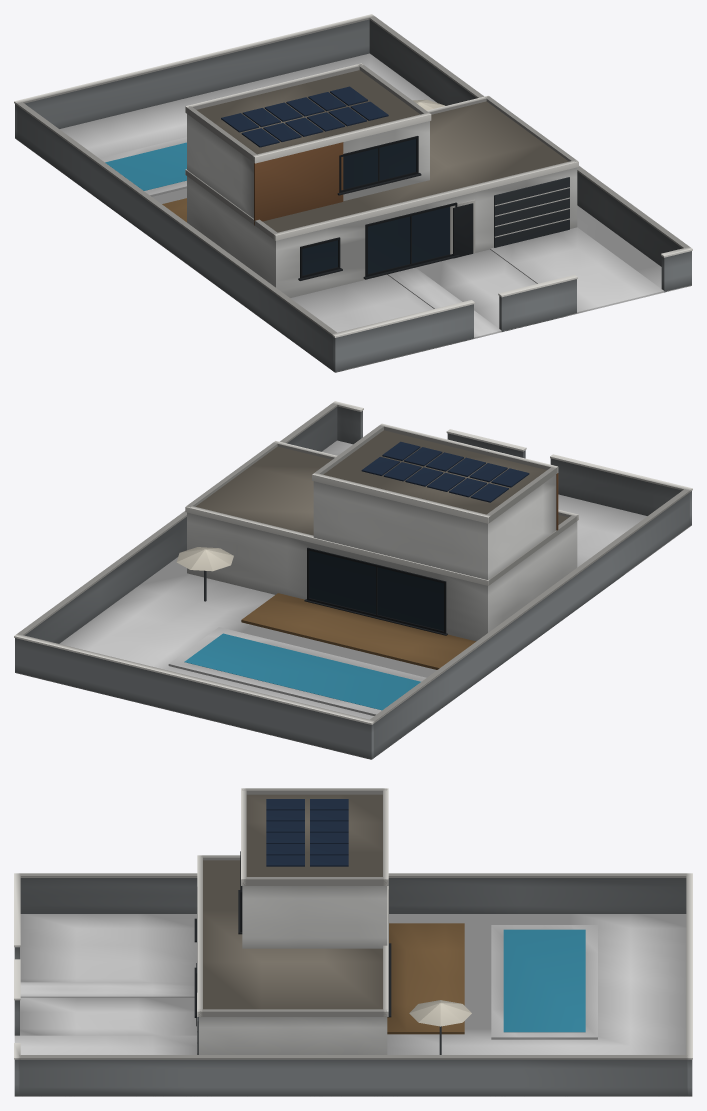
The model's file is moderna-DUXZ9qDY.glb.
The picture shows the model from 3 angles, top to bottom: view 1: azimuth 30°, elevation 25°; view 2: azimuth 150°, elevation 25°; view 3: azimuth 270°, elevation 25°; orthographic projection. The views are drawn at different scales.
Parts seen in each view (by area): view 1: pasto, pieza.006, pieza.014, pieza.008, pieza.015, pieza.012, pieza.010, pieza.020, pieza.026, pieza.021, pieza, porton (+20 smaller); view 2: pasto, pieza.014, pieza.020, pieza.006, pieza.008, piscina.001, pieza.039, pieza.015, ventana.020, pieza.010, pieza.021, pieza (+14 smaller); view 3: pasto, pieza.010, pieza.008, pieza.015, pieza.020, piscina.001, pieza.039, pieza.014, pieza.021, piscina, pieza.012, pieza.011 (+12 smaller).
Boxes of the visible parts, bbox=[...] form: pasto: bbox=[15, 53, 691, 372]; pieza.006: bbox=[15, 19, 369, 138]; pieza.014: bbox=[187, 167, 577, 297]; pieza.008: bbox=[17, 106, 332, 370]; pieza.015: bbox=[262, 101, 568, 232]; pieza.012: bbox=[490, 227, 664, 312]; pieza.010: bbox=[369, 20, 682, 266]; pieza.020: bbox=[187, 114, 429, 218]; pieza.026: bbox=[254, 142, 343, 225]; pieza.021: bbox=[197, 70, 419, 154]; pieza: bbox=[332, 304, 473, 372]; porton: bbox=[494, 177, 569, 247]; pasto: bbox=[15, 440, 691, 759]; pieza.014: bbox=[187, 512, 577, 641]; pieza.020: bbox=[313, 474, 556, 579]; pieza.006: bbox=[15, 638, 374, 759]; pieza.008: bbox=[374, 493, 689, 757]; piscina.001: bbox=[184, 633, 420, 710]; pieza.039: bbox=[241, 593, 475, 669]; pieza.015: bbox=[195, 446, 568, 535]; ventana.020: bbox=[309, 550, 443, 630]; pieza.010: bbox=[24, 407, 337, 643]; pieza.021: bbox=[323, 430, 546, 514]; pieza: bbox=[550, 458, 691, 525]; pasto: bbox=[14, 914, 692, 1096]; pieza.010: bbox=[20, 1059, 686, 1095]; pieza.008: bbox=[20, 878, 686, 913]; pieza.015: bbox=[203, 860, 382, 1009]; pieza.020: bbox=[242, 886, 387, 948]; piscina.001: bbox=[503, 929, 585, 1032]; pieza.039: bbox=[387, 923, 464, 1034]; pieza.014: bbox=[198, 1017, 387, 1054]; pieza.021: bbox=[246, 794, 382, 876]; piscina: bbox=[491, 925, 597, 1039]; pieza.012: bbox=[14, 1035, 196, 1054]; pieza.011: bbox=[19, 1055, 687, 1059].
Size of the model in its own units: 18.06 by 6.3 by 28.06.
